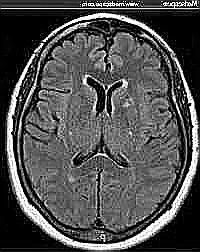Normal_Brain: (1, 4, 200, 252)
